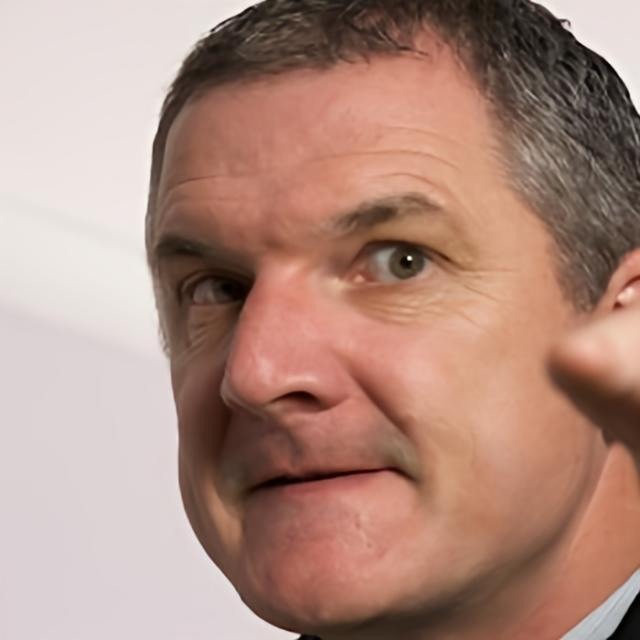anger: (140, 44, 566, 626)
